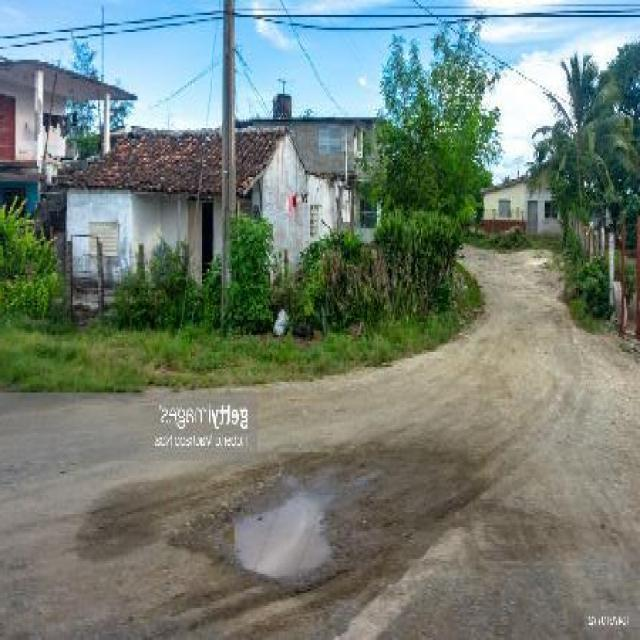Pothole: (233, 481, 341, 584)
